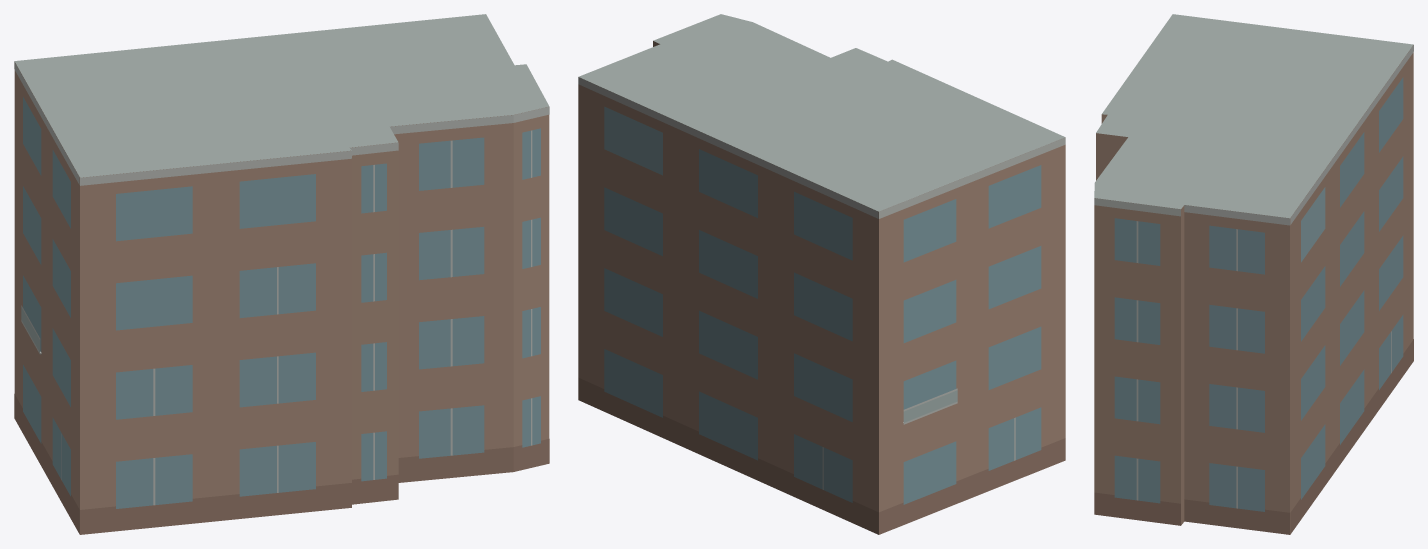
The model's file is survey-upis-32671793.glb.
The picture shows the model from 3 angles, left to right: view 1: azimuth 30°, elevation 25°; view 2: azimuth 150°, elevation 25°; view 3: azimuth 270°, elevation 25°; orthographic projection. The views are drawn at different scales.
Visible parts, largest first — view 1: survey-upis-32671793.tmp; view 2: survey-upis-32671793.tmp; view 3: survey-upis-32671793.tmp.
Part boxes in pixels (x1,y1,x2,y2): survey-upis-32671793.tmp: (14, 14, 549, 534); survey-upis-32671793.tmp: (578, 14, 1065, 534); survey-upis-32671793.tmp: (1094, 14, 1413, 534).
Bounding box in the file's own units: 14.82 × 10.7 × 9.8.
